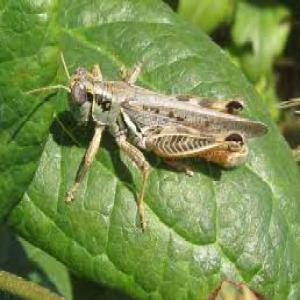locust: (32, 41, 261, 206)
